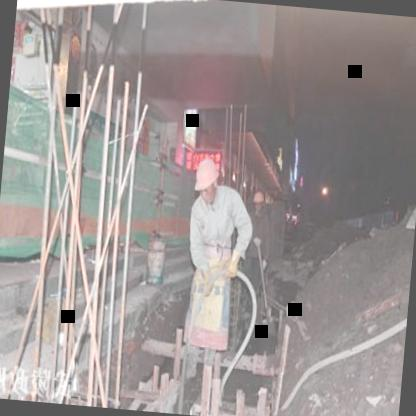helmet: (190, 156, 224, 208), (252, 192, 266, 214)
